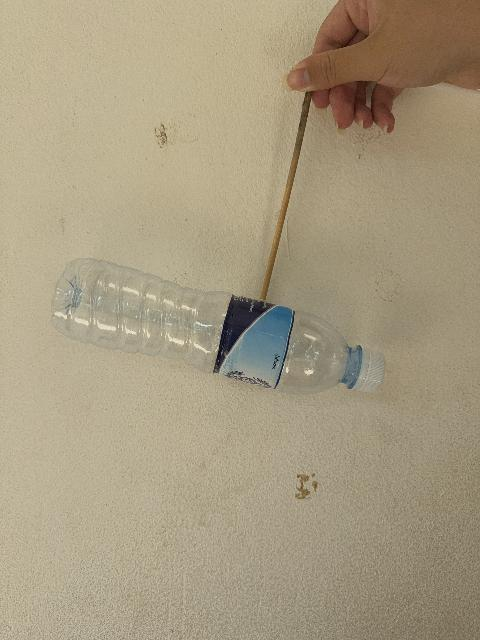bottle: (52, 259, 385, 394)
